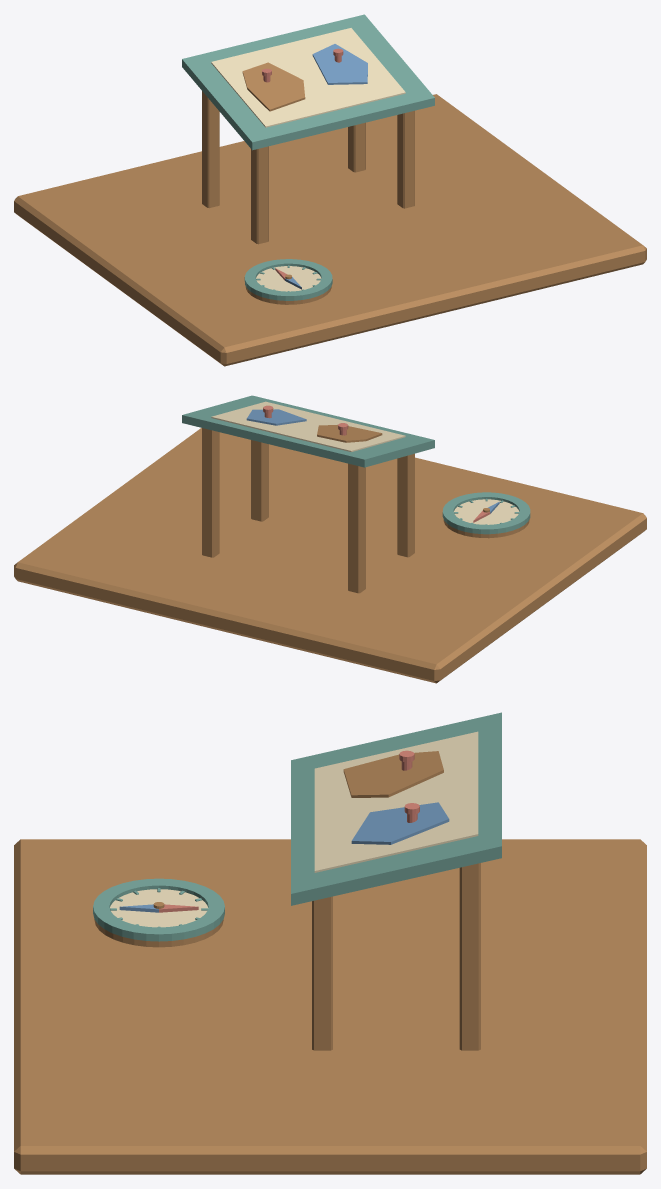
The picture shows the model from 3 angles, top to bottom: view 1: azimuth 30°, elevation 25°; view 2: azimuth 150°, elevation 25°; view 3: azimuth 270°, elevation 25°; orthographic projection. The views are drawn at different scales.
Visible parts, largest first — view 1: navigation-planning-corner-scene-01; view 2: navigation-planning-corner-scene-01; view 3: navigation-planning-corner-scene-01.
Boxes of the visible parts, x1,y1,x2,y2 form: navigation-planning-corner-scene-01: (14,14,646,366); navigation-planning-corner-scene-01: (14,395,646,683); navigation-planning-corner-scene-01: (14,712,646,1174).
Bounding box in the file's own units: 2.8 × 1.01 × 2.4.
